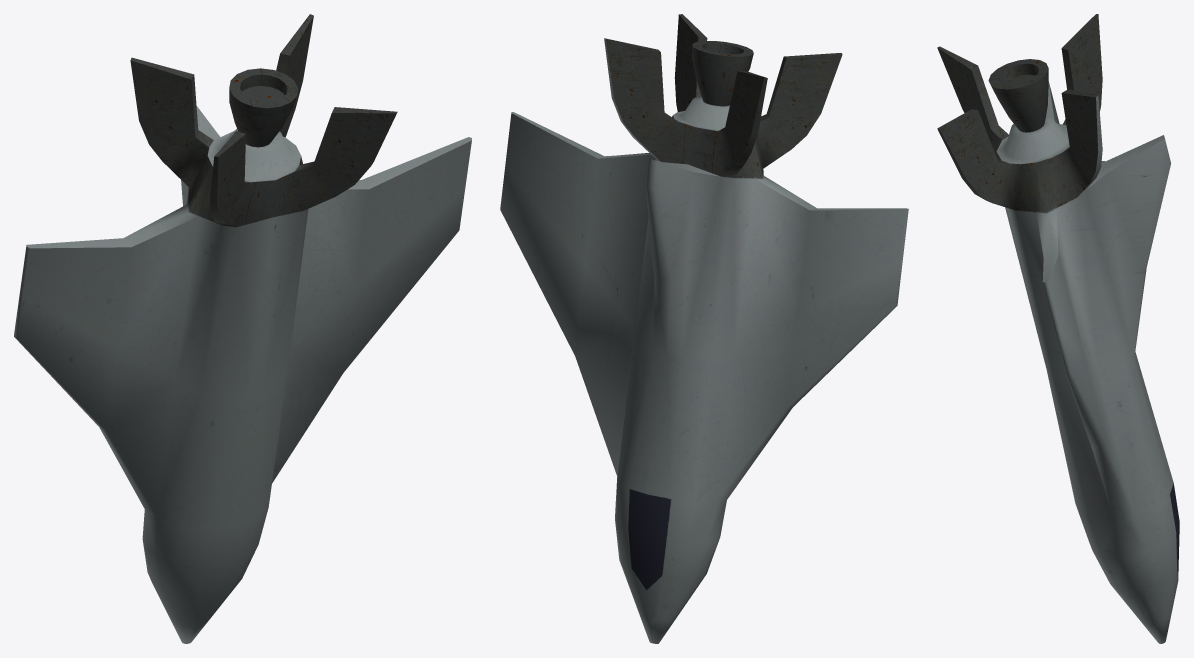
Rendered from space-ship.glb.
The picture shows the model from 3 angles, left to right: view 1: azimuth 30°, elevation 25°; view 2: azimuth 150°, elevation 25°; view 3: azimuth 270°, elevation 25°; orthographic projection. The views are drawn at different scales.
Visible parts, largest first — view 1: Spaceship; view 2: Spaceship; view 3: Spaceship.
Boxes of the visible parts, x1,y1,x2,y2 form: Spaceship: [14, 14, 471, 643]; Spaceship: [500, 14, 908, 643]; Spaceship: [937, 14, 1179, 643].
Bounding box in the file's own units: 7.29 × 9.88 × 3.69.
Materials: 1 (1 with a texture image).
